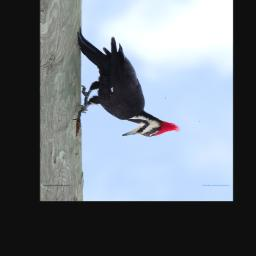Woodpecker: (73, 28, 180, 137)
